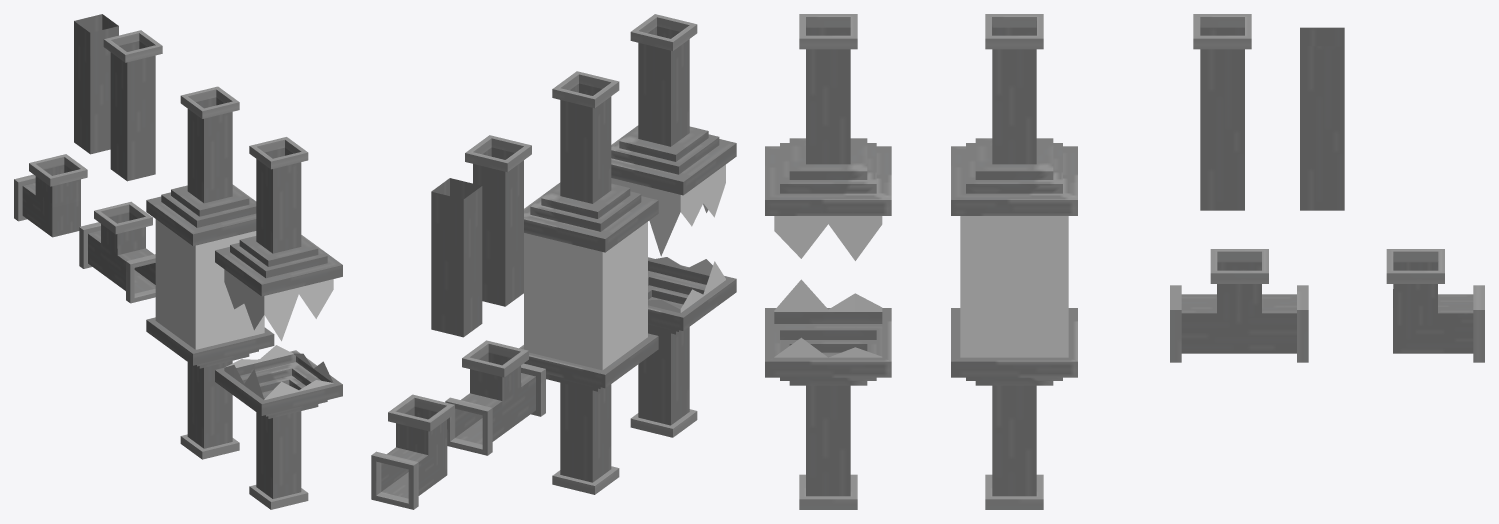
File: Specimen Tank.fbx
3 renders of one model, left to right at view 1: azimuth 30°, elevation 25°; view 2: azimuth 150°, elevation 25°; view 3: azimuth 270°, elevation 25°, orthographic. The views are drawn at different scales.
Visible parts, largest first — view 1: Tank, Broken Tank, Pipe Extention Capped, Pipe Split, Pipe Extention., Pipe Angle; view 2: Tank, Broken Tank, Pipe Extention., Pipe Split, Pipe Extention Capped, Pipe Angle; view 3: Tank, Broken Tank, Pipe Split, Pipe Extention Capped, Pipe Extention., Pipe Angle.
Part boxes in pixels (bbox=[...]): Tank: bbox=[146, 86, 274, 459]; Broken Tank: bbox=[215, 137, 342, 509]; Pipe Extention Capped: bbox=[103, 30, 162, 181]; Pipe Split: bbox=[79, 201, 155, 303]; Pipe Extention.: bbox=[74, 14, 118, 154]; Pipe Angle: bbox=[14, 154, 87, 237]; Tank: bbox=[519, 71, 658, 494]; Broken Tank: bbox=[611, 14, 736, 437]; Pipe Extention.: bbox=[431, 178, 482, 337]; Pipe Split: bbox=[445, 340, 545, 455]; Pipe Extention Capped: bbox=[465, 135, 531, 306]; Pipe Angle: bbox=[371, 394, 454, 509]; Tank: bbox=[951, 14, 1077, 509]; Broken Tank: bbox=[765, 14, 891, 509]; Pipe Split: bbox=[1170, 249, 1308, 362]; Pipe Extention Capped: bbox=[1193, 14, 1251, 210]; Pipe Extention.: bbox=[1300, 27, 1344, 210]; Pipe Angle: bbox=[1386, 249, 1484, 362].
Size of the model in its own units: 35.77 by 147 by 203.
4 materials, 3 textured.
